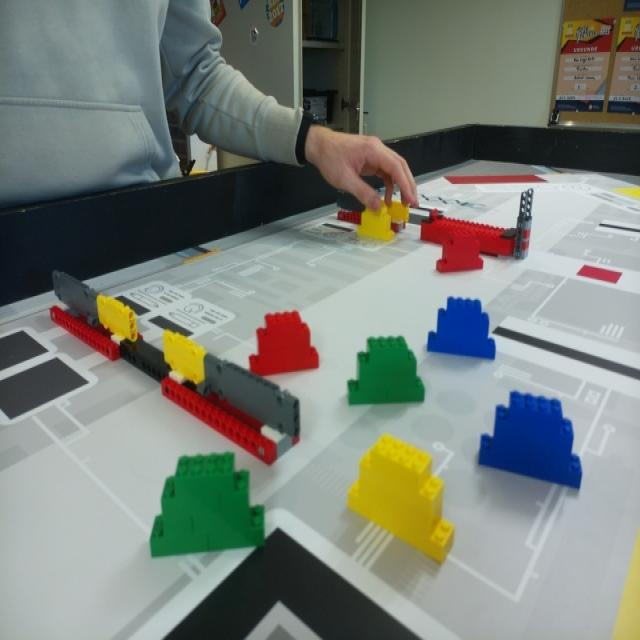blau: (478, 390, 584, 492), (425, 293, 496, 360)
gruen: (151, 447, 266, 561), (348, 337, 423, 407)
rot: (248, 312, 320, 376), (436, 226, 483, 274)
yellow: (349, 437, 457, 555), (360, 202, 396, 239)
